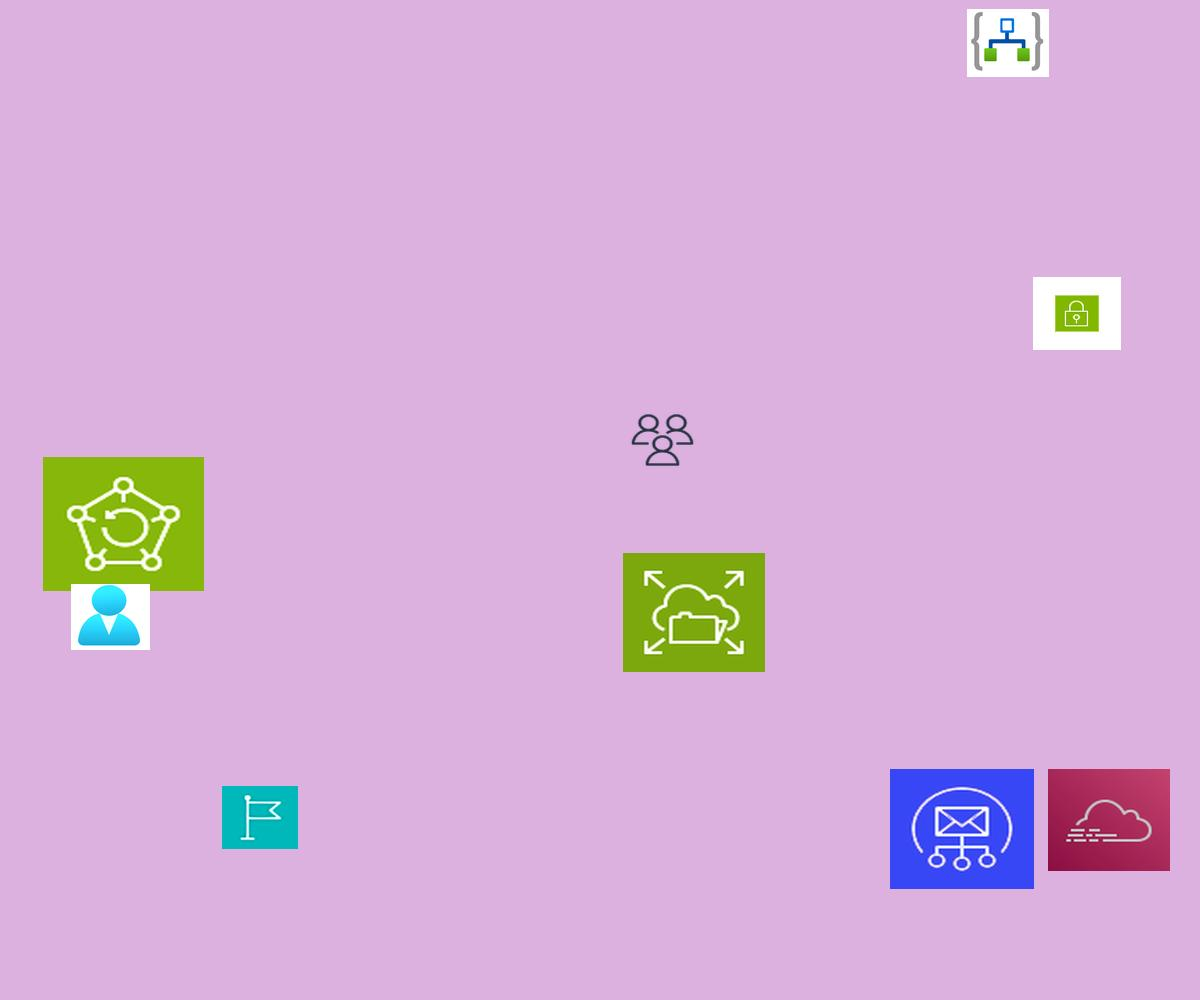AWS-Backup: (43, 457, 204, 591)
AWS-CloudTrail: (1048, 769, 1170, 871)
AWS-EFS: (623, 553, 765, 672)
AWS-Public-subnet: (1033, 277, 1121, 350)
AWS-Region: (222, 786, 298, 849)
AWS-Res_Users: (629, 412, 696, 468)
AWS-Simple-Email-Service: (890, 769, 1034, 889)
Azure_integration-204-Logic-Apps: (967, 9, 1049, 77)
Azure_users: (71, 584, 150, 650)
